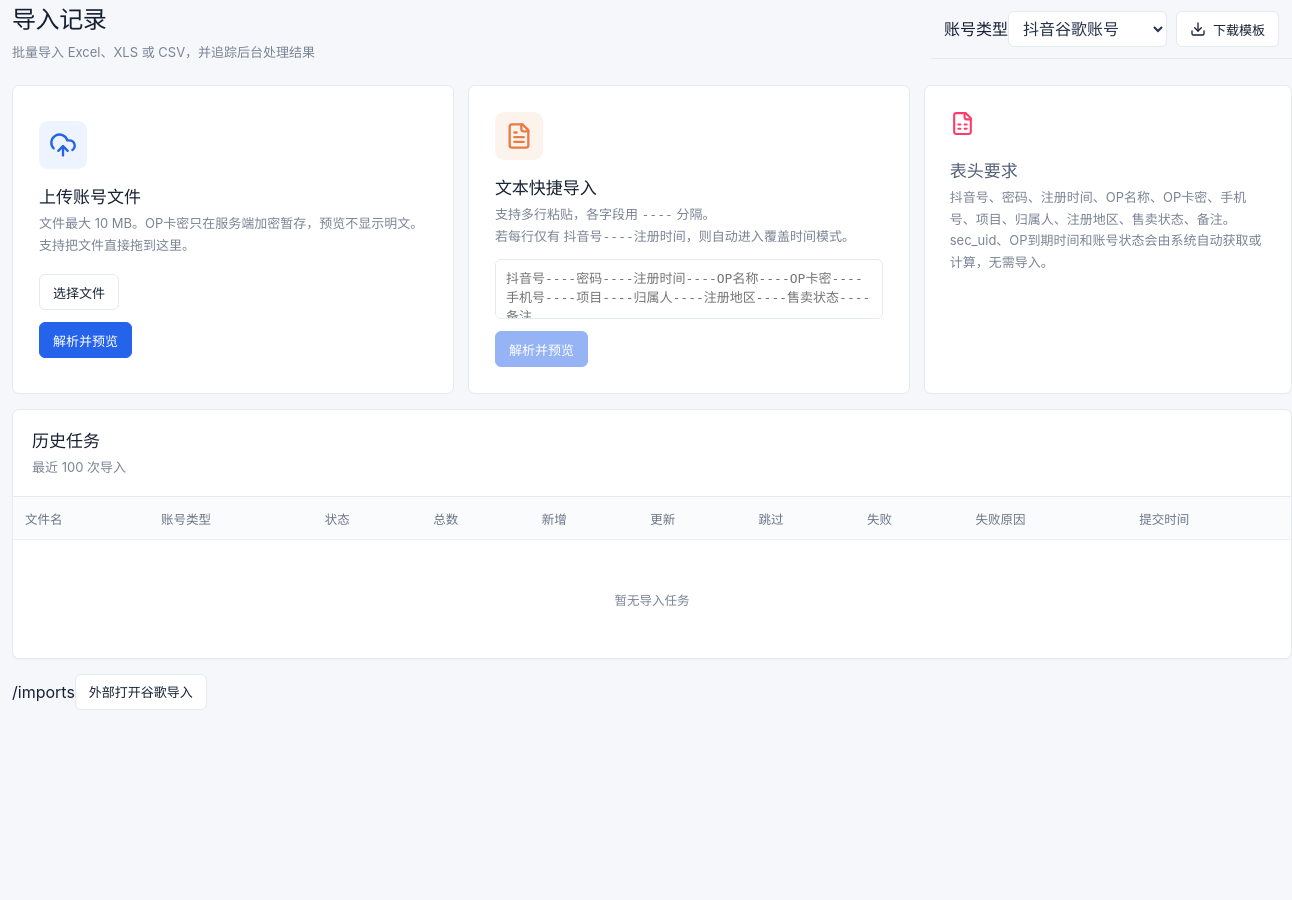
imports page › builds Google pasted CSV with 注册地区 after 归属人 and defaults it blank
Type "94946893573----account-pass----2026-07-27----星图运营----a|b|1782303418----+86 13037174892----抖音----小王----未售卖----正常账号" into the text box named "粘贴导入内容" at (689, 289), box [495,259,883,319]
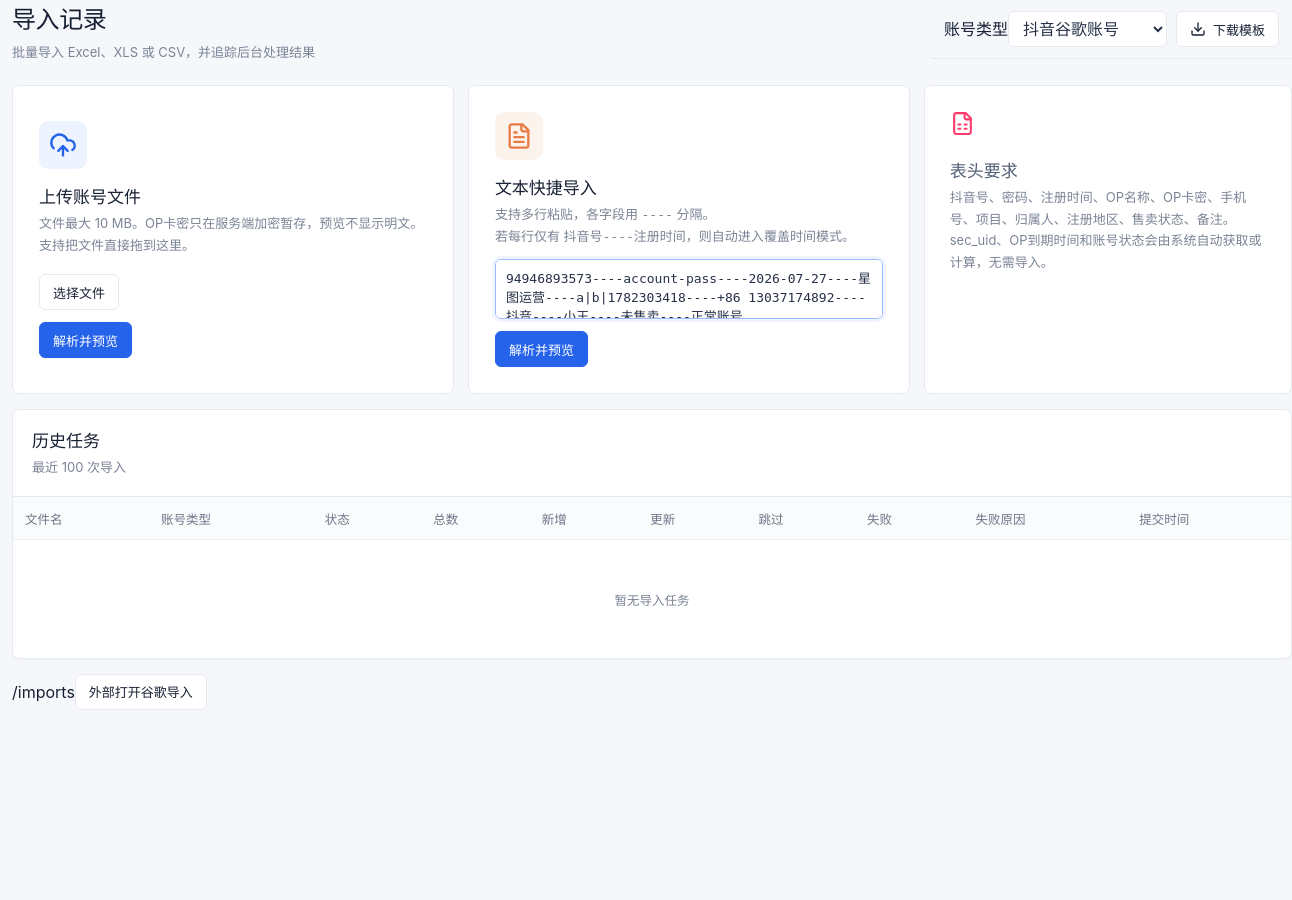
Click the button "解析并预览" below "若每行仅有" at (541, 349), box [495,331,588,367]
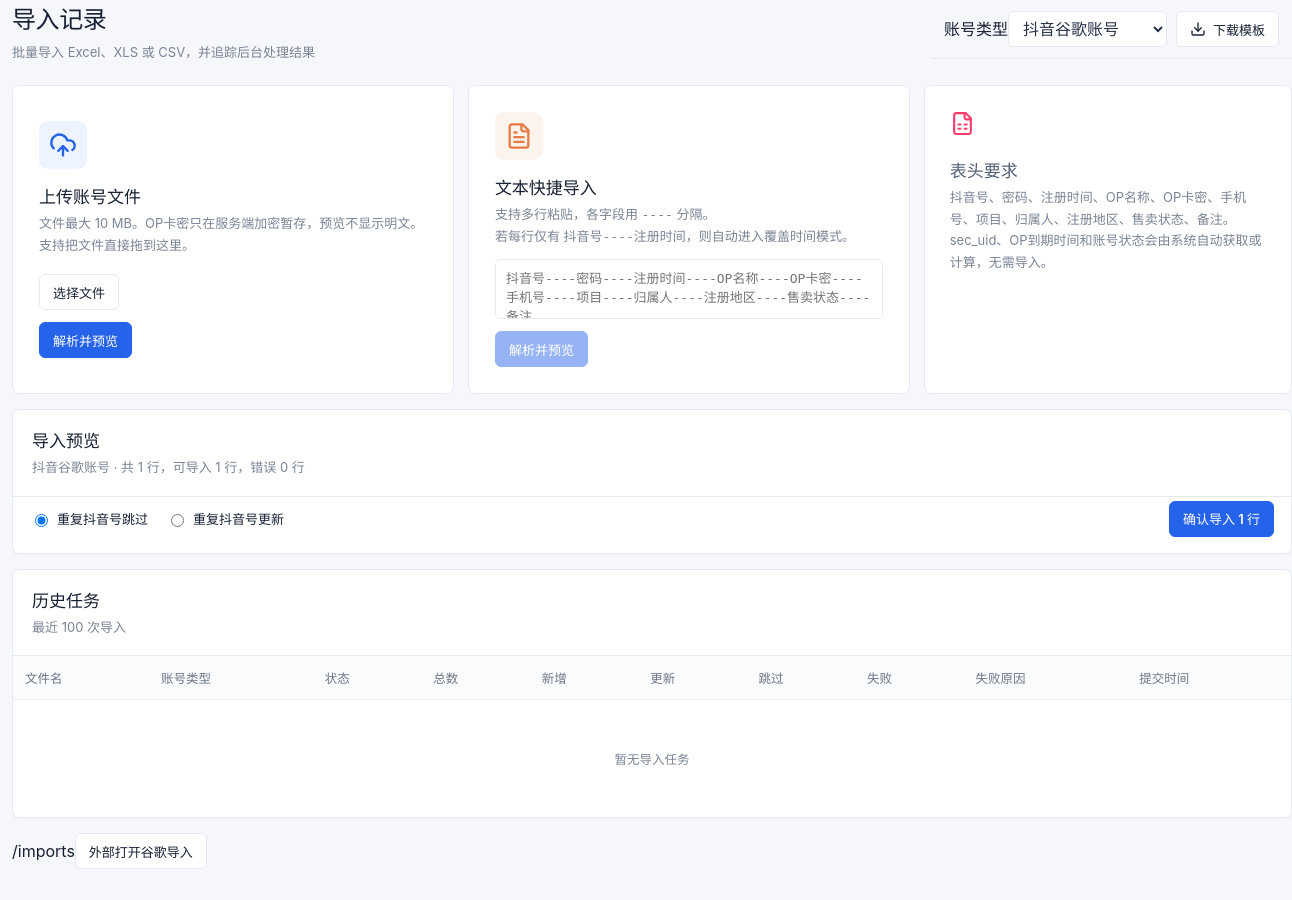
Result: the heading "导入预览" is shown at [32,431,100,451]
